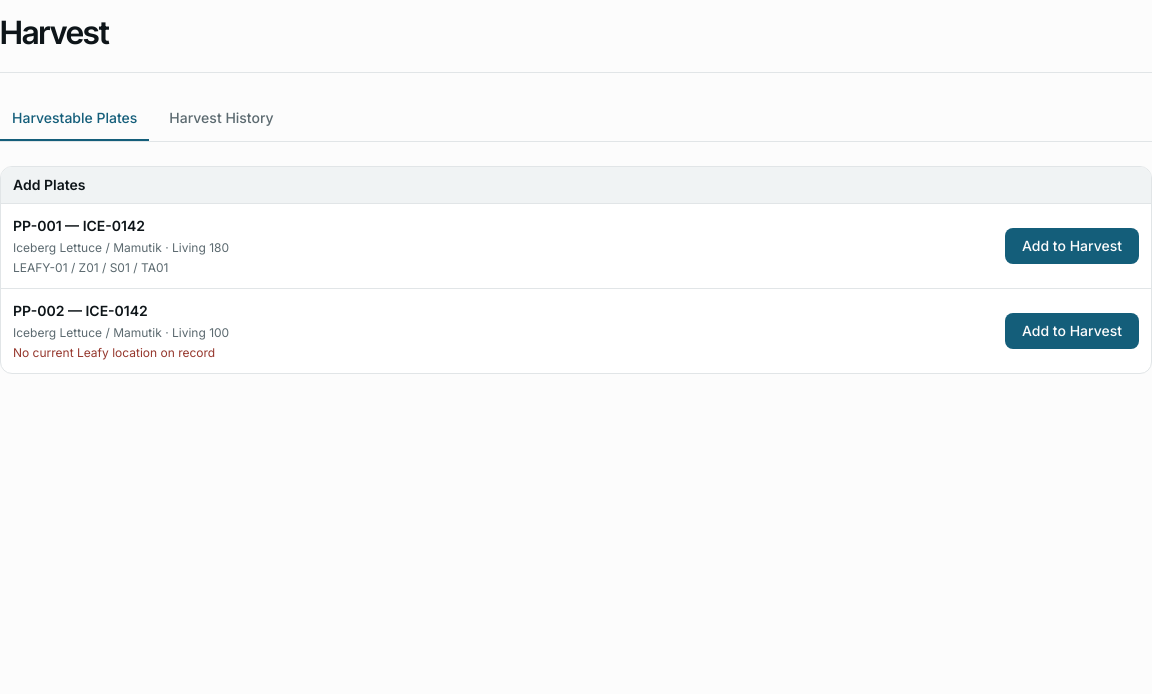
Test: LeafyHarvestPage › supports multi-Plate entry with independent inputs and shows totals in Review
Expected: the text "PP-001 — ICE-0142" is shown, [13,217,145,234]
Click the button "Add to Harvest" in the row of "PP-001" at (1072, 246), box [1005,228,1139,264]
(page scrolled)
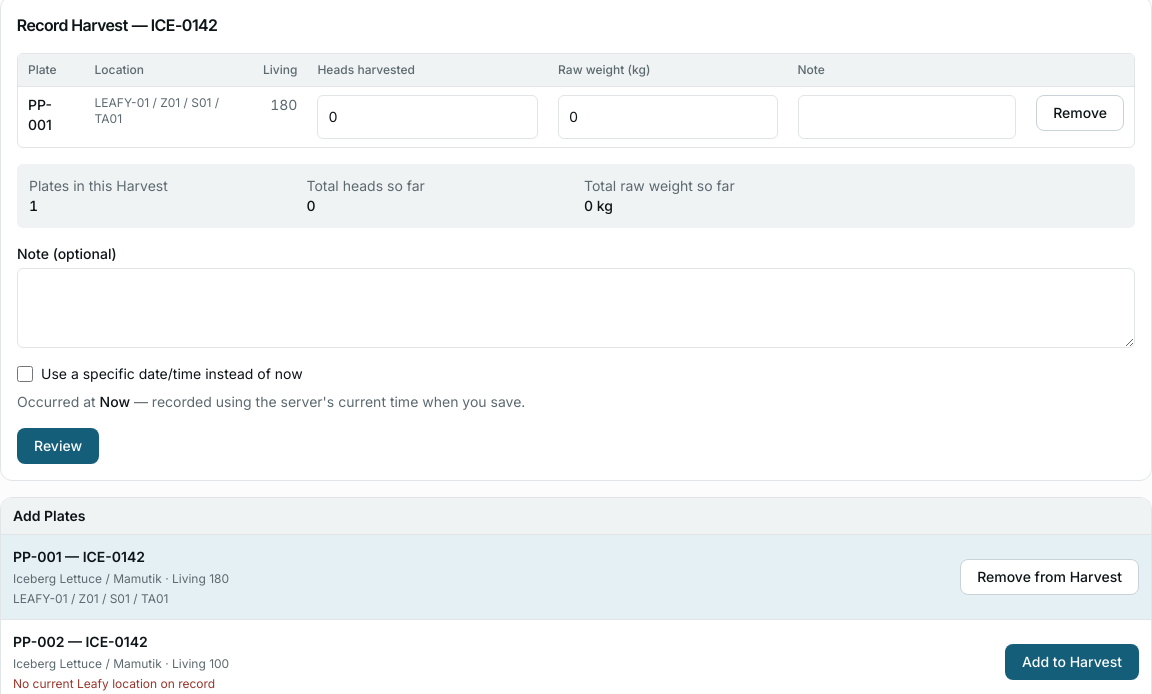
Now the heading "Record Harvest — ICE-0142" is shown, box [17,15,218,35]
Click the button "Add to Harvest" at (1072, 662), box [1005,644,1139,680]
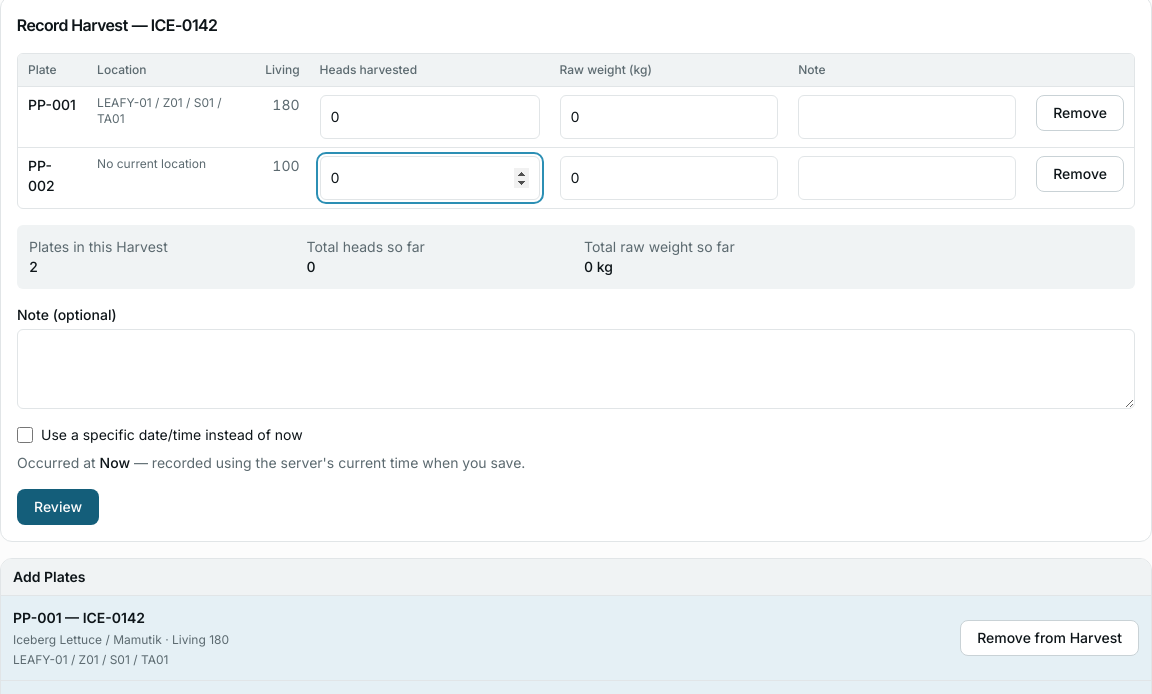
Now the number of number fields named "heads harvested" is 2
Replace the text in the 1st number field named "heads harvested" with "5" at (430, 117), box [320,95,540,139]
Replace the text in the 1st number field named "raw harvested weight" with "2.5" at (669, 117), box [560,95,778,139]
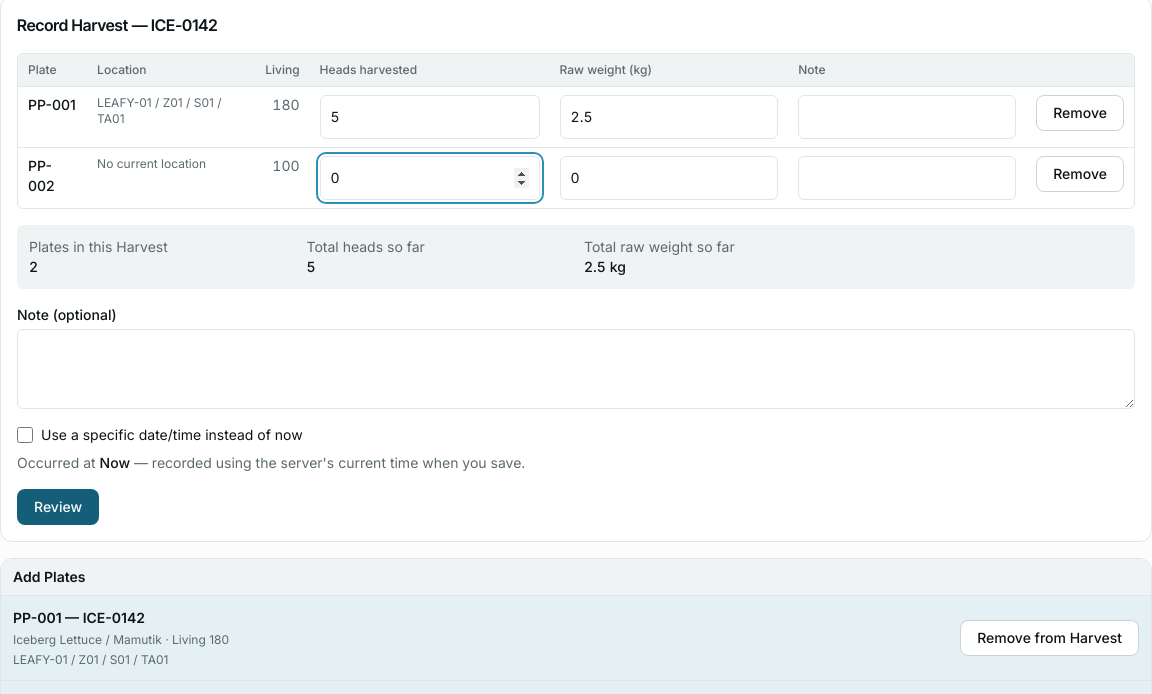
Replace the text in the number field named "heads harvested" in the row of "No current location" with "3" at (430, 178), box [320,156,540,200]
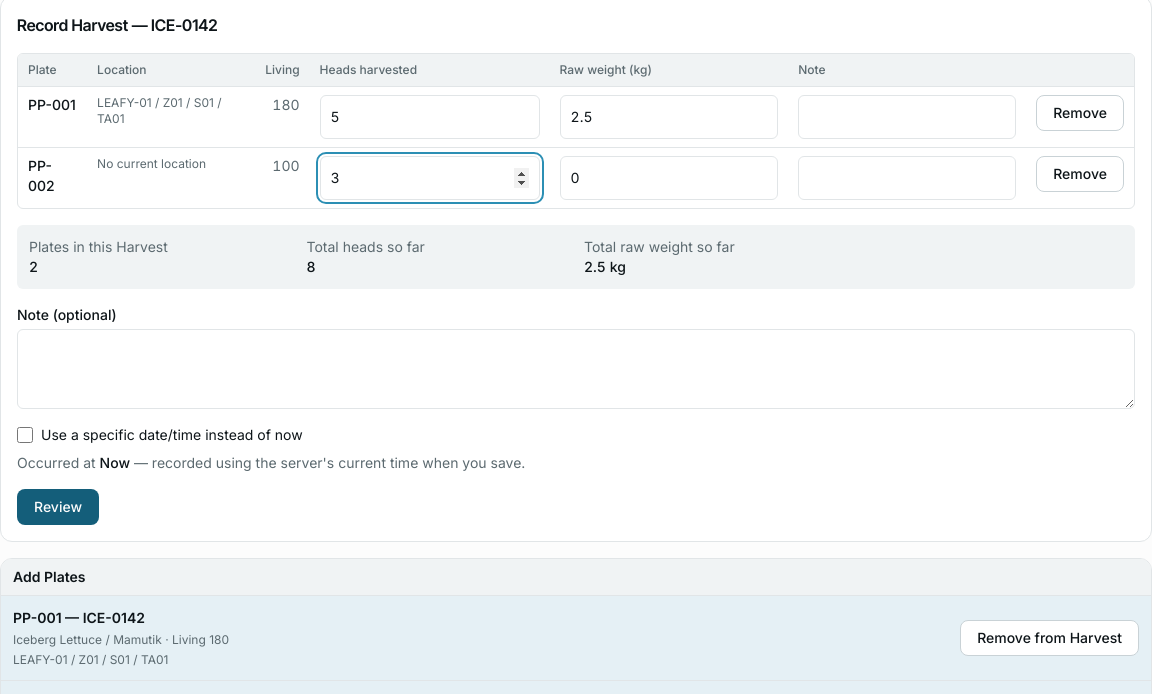
Replace the text in the number field named "raw harvested weight" in the row of "No current location" with "1.5" at (669, 178), box [560,156,778,200]
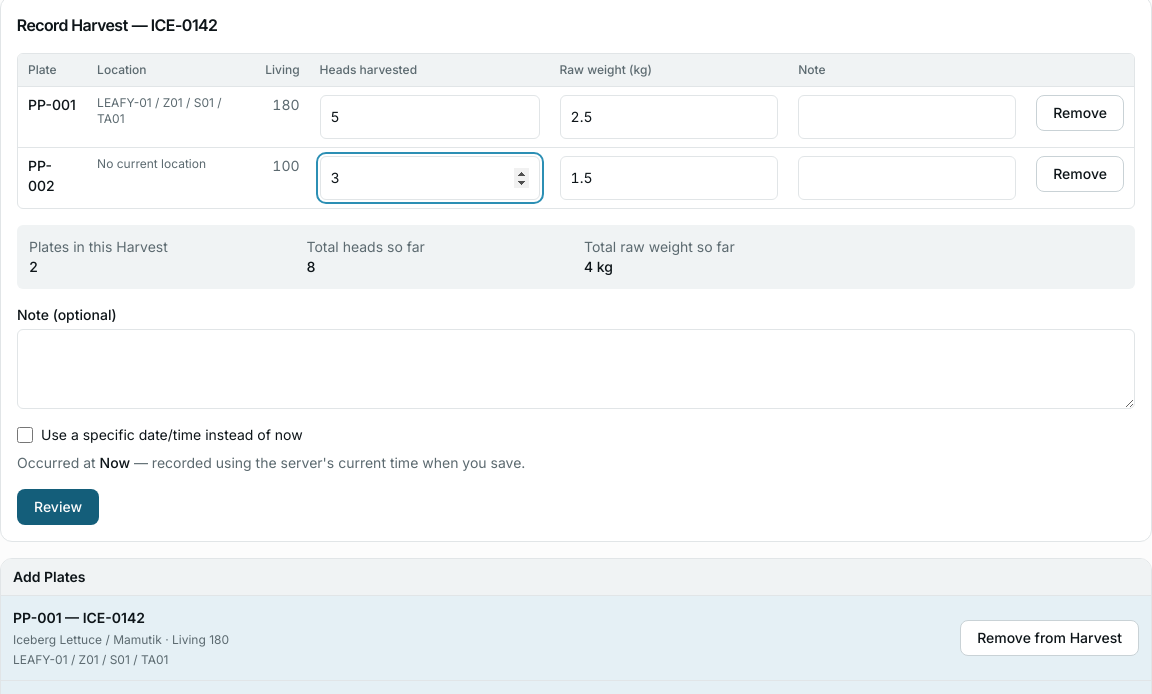
Click the button "Review" at (58, 507), box [17,489,99,525]
(page scrolled)
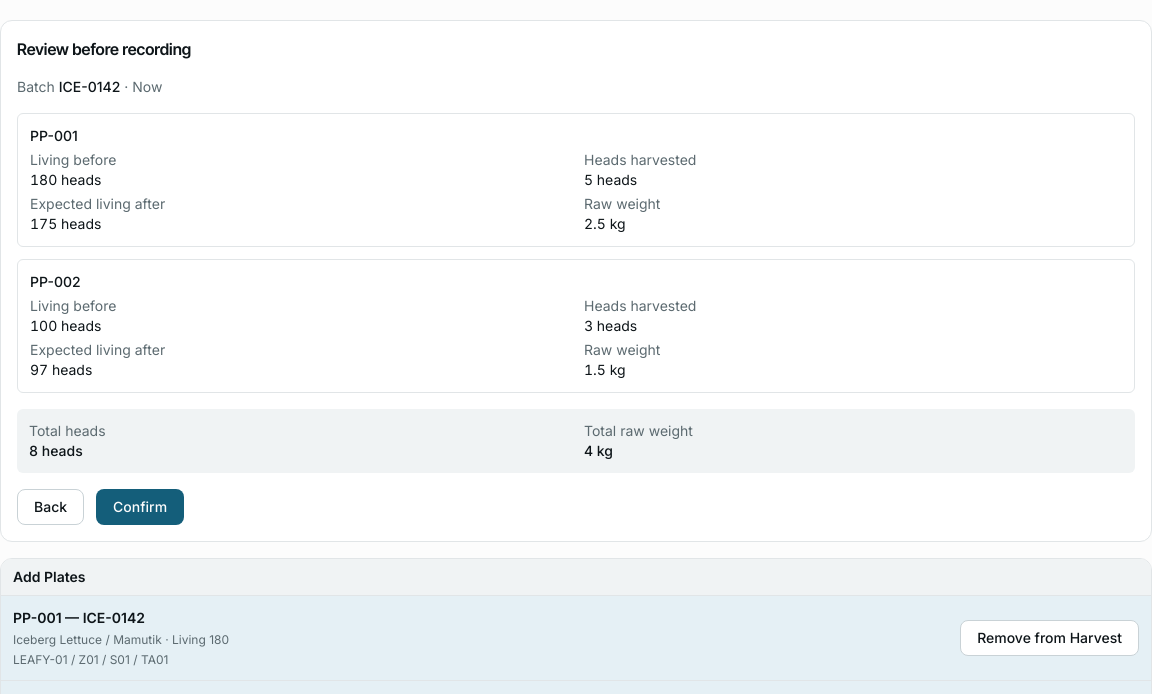
Now the heading "Review before recording" is shown, box [17,39,191,59]
Now the text "8 heads" is shown, box [29,442,83,459]
